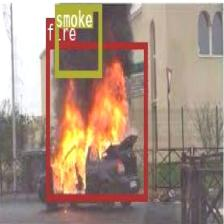fire: (45, 42, 147, 200)
smoke: (54, 3, 102, 76)
